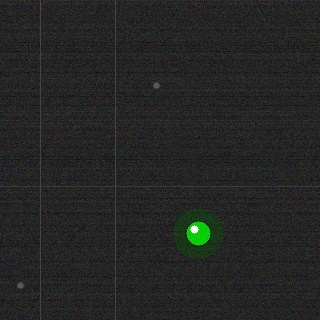green_normal: (184, 219, 212, 247)
